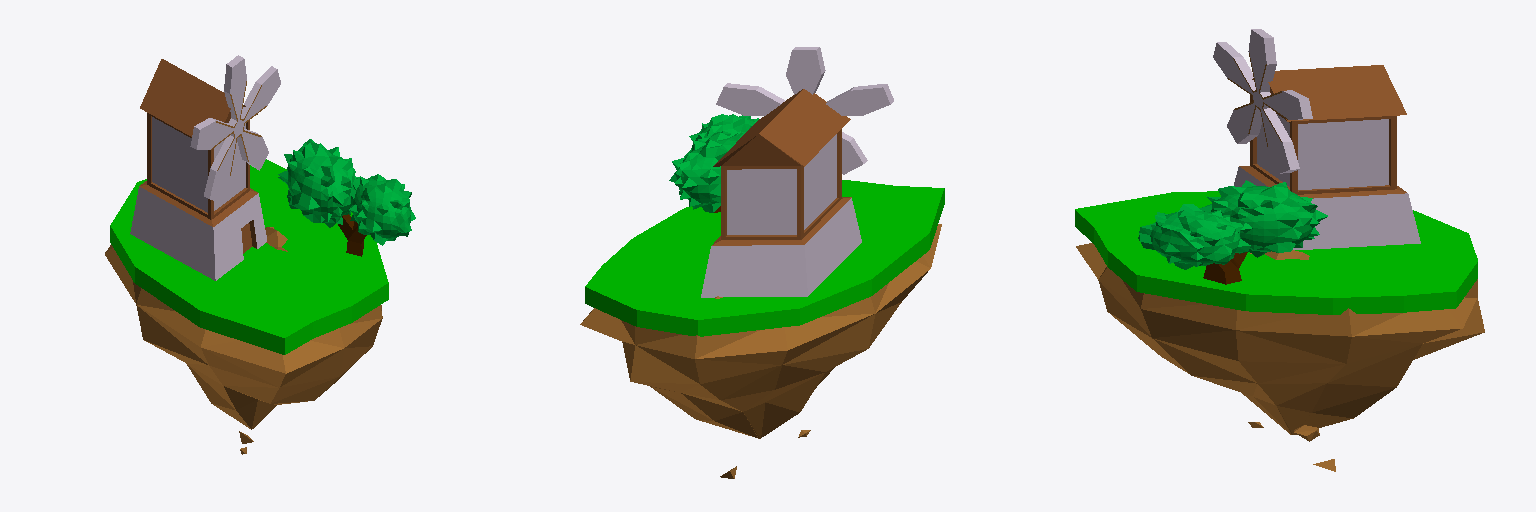
3 renders of one model, left to right at view 1: azimuth 30°, elevation 25°; view 2: azimuth 150°, elevation 25°; view 3: azimuth 270°, elevation 25°, orthographic.
Visible parts, largest first — view 1: Green_platform, Mill, Island, Tree, propeller; view 2: Green_platform, Mill, Island, propeller, Tree; view 3: Island, Green_platform, Mill, Tree, propeller.
Boxes of the visible parts, <box> form: Green_platform: <box>110,159,388,354</box>; Mill: <box>130,59,266,280</box>; Island: <box>105,227,382,454</box>; Tree: <box>278,139,415,256</box>; propeller: <box>190,55,280,201</box>; Green_platform: <box>585,180,944,336</box>; Mill: <box>701,89,861,297</box>; Island: <box>580,224,941,478</box>; propeller: <box>716,47,893,174</box>; Tree: <box>669,114,758,212</box>; Island: <box>1076,243,1484,471</box>; Green_platform: <box>1075,191,1477,314</box>; Mill: <box>1234,65,1420,249</box>; Tree: <box>1138,180,1327,284</box>; propeller: <box>1213,29,1312,173</box>.
Size of the model in its own units: 9.65 by 16.89 by 15.09.